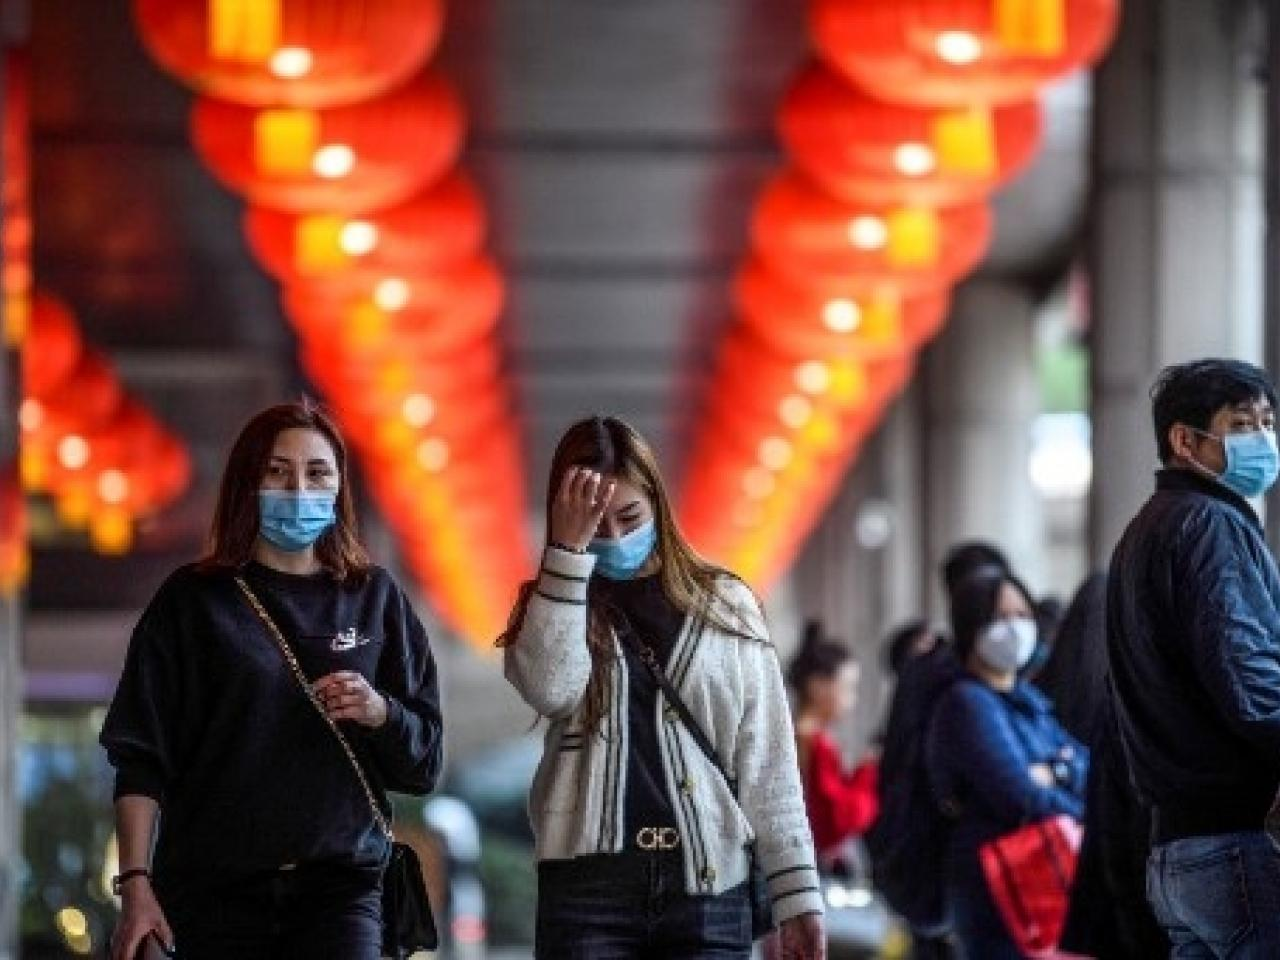mask: (249, 444, 343, 555), (1200, 395, 1279, 501), (574, 495, 658, 581), (975, 604, 1043, 676)
